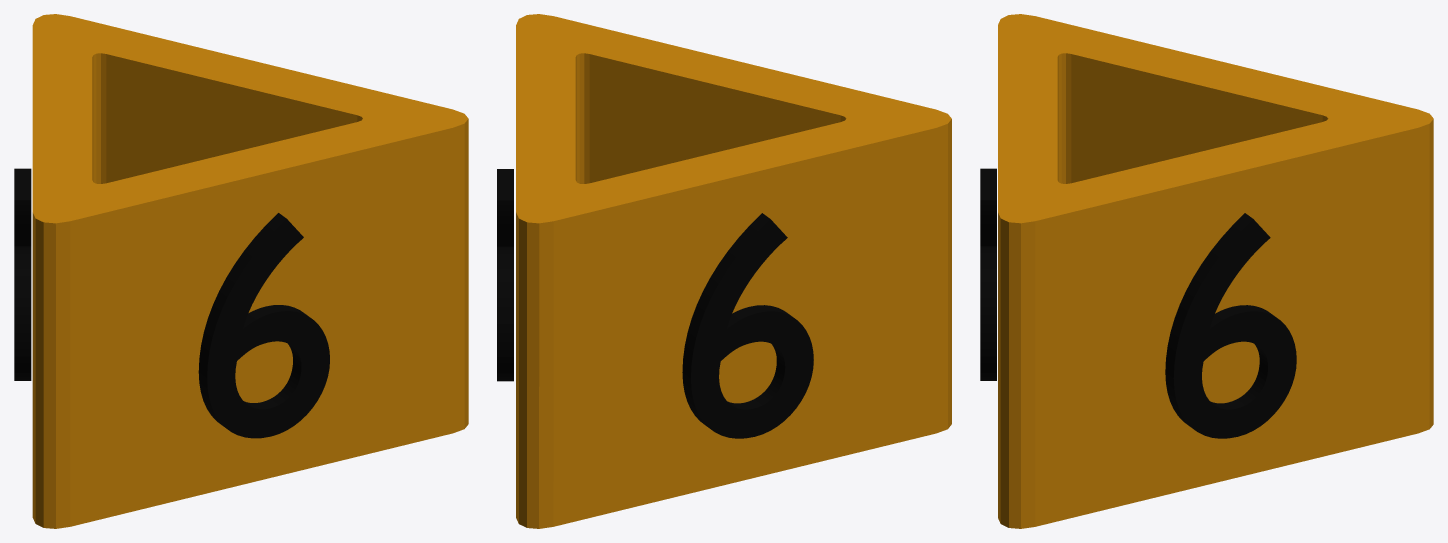
File: Six1_shadow.OBJ
The picture shows the model from 3 angles, left to right: view 1: azimuth 30°, elevation 25°; view 2: azimuth 150°, elevation 25°; view 3: azimuth 270°, elevation 25°; orthographic projection.
Visible parts, largest first — view 1: /ambf/icl/Six1_shadow_Six1; view 2: /ambf/icl/Six1_shadow_Six1; view 3: /ambf/icl/Six1_shadow_Six1.
Boxes of the visible parts, x1,y1,x2,y2 form: /ambf/icl/Six1_shadow_Six1: [14, 14, 468, 528]; /ambf/icl/Six1_shadow_Six1: [497, 14, 951, 528]; /ambf/icl/Six1_shadow_Six1: [980, 14, 1433, 528].
Bounding box in the file's own units: 0.1426 × 0.0971 × 0.1305.
